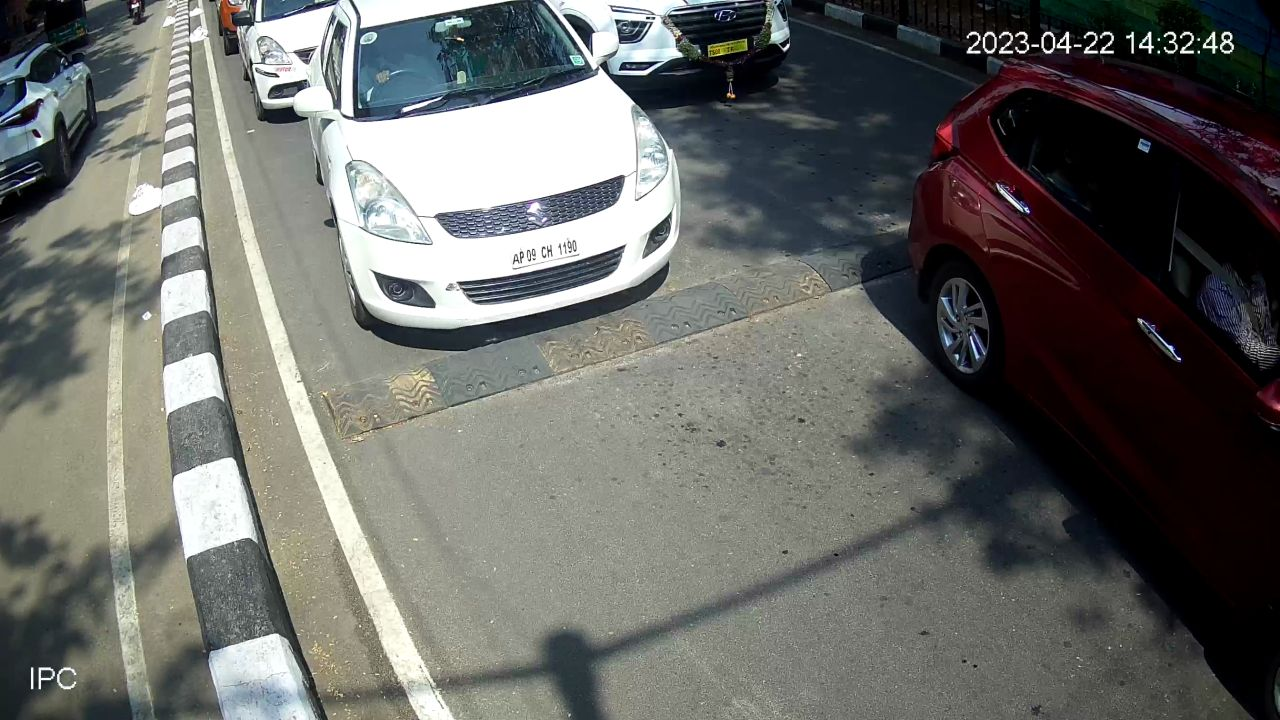license_plate: (503, 230, 583, 276)
